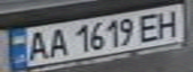1: (69, 21, 90, 54), (103, 17, 124, 48)
6: (87, 19, 109, 51)
9: (115, 15, 139, 46)
A: (21, 28, 51, 62), (45, 25, 69, 58)
E: (136, 11, 163, 43)
H: (154, 7, 184, 38)
